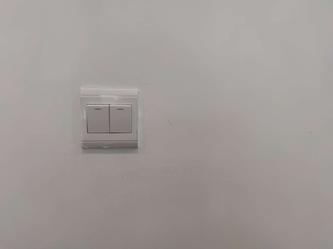switch: (83, 101, 109, 133), (109, 101, 133, 135)
